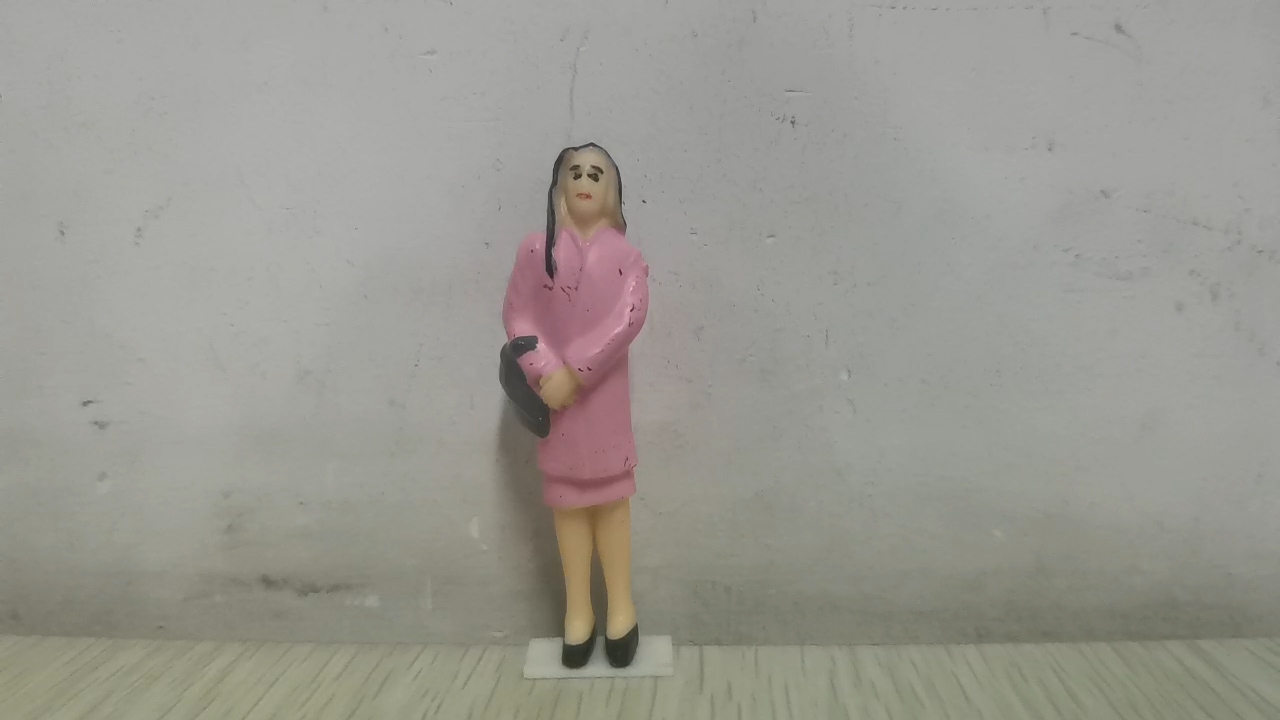person: (497, 141, 651, 670)
